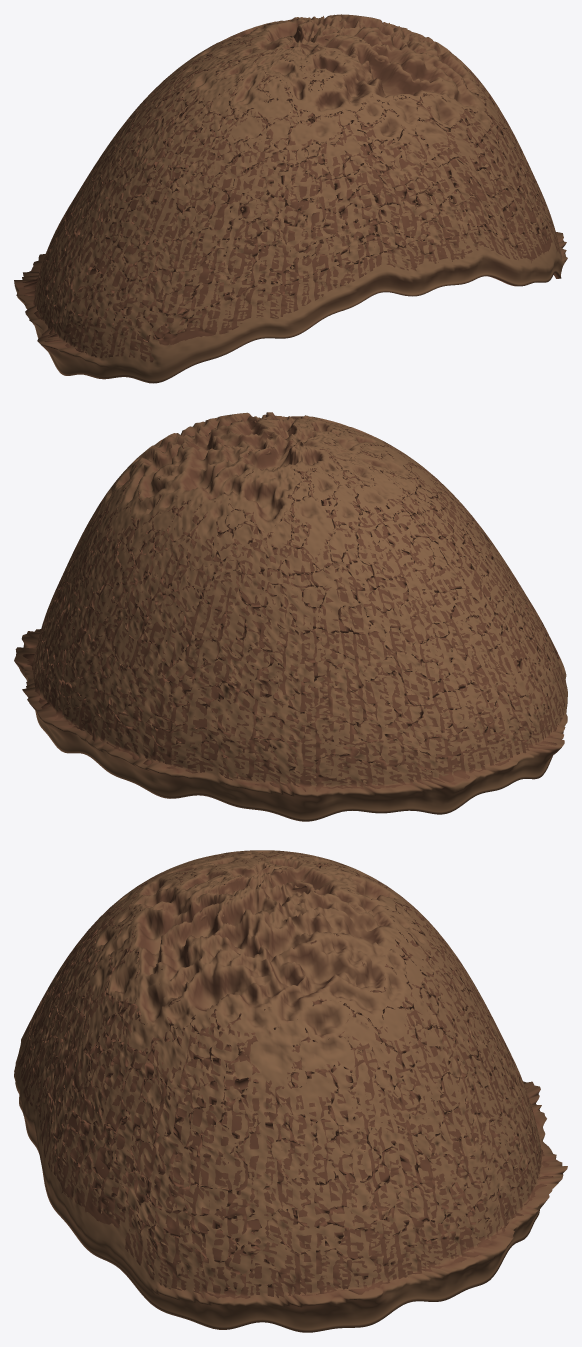
File: Highlights-7715271c244e252-hair.glb
The picture shows the model from 3 angles, top to bottom: view 1: azimuth 30°, elevation 25°; view 2: azimuth 150°, elevation 25°; view 3: azimuth 270°, elevation 25°; orthographic projection. The views are drawn at different scales.
Visible parts, largest first — view 1: 226 hair / Hair252 / dense natural coil groups.001; view 2: 226 hair / Hair252 / dense natural coil groups.001; view 3: 226 hair / Hair252 / dense natural coil groups.001.
Boxes of the visible parts, x1=… form: 226 hair / Hair252 / dense natural coil groups.001: x1=14, y1=14, x2=567, y2=383; 226 hair / Hair252 / dense natural coil groups.001: x1=14, y1=412, x2=567, y2=821; 226 hair / Hair252 / dense natural coil groups.001: x1=14, y1=850, x2=567, y2=1332.
Bounding box in the file's own units: 1.04 × 0.5335 × 0.8065.
1 material, 1 textured.
